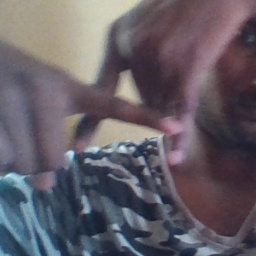H: (56, 32, 212, 175)
